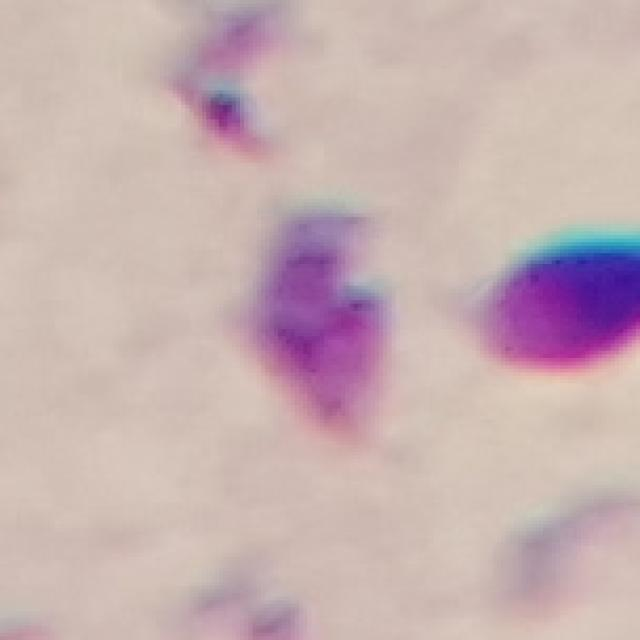non-sperm: (239, 210, 401, 444)
